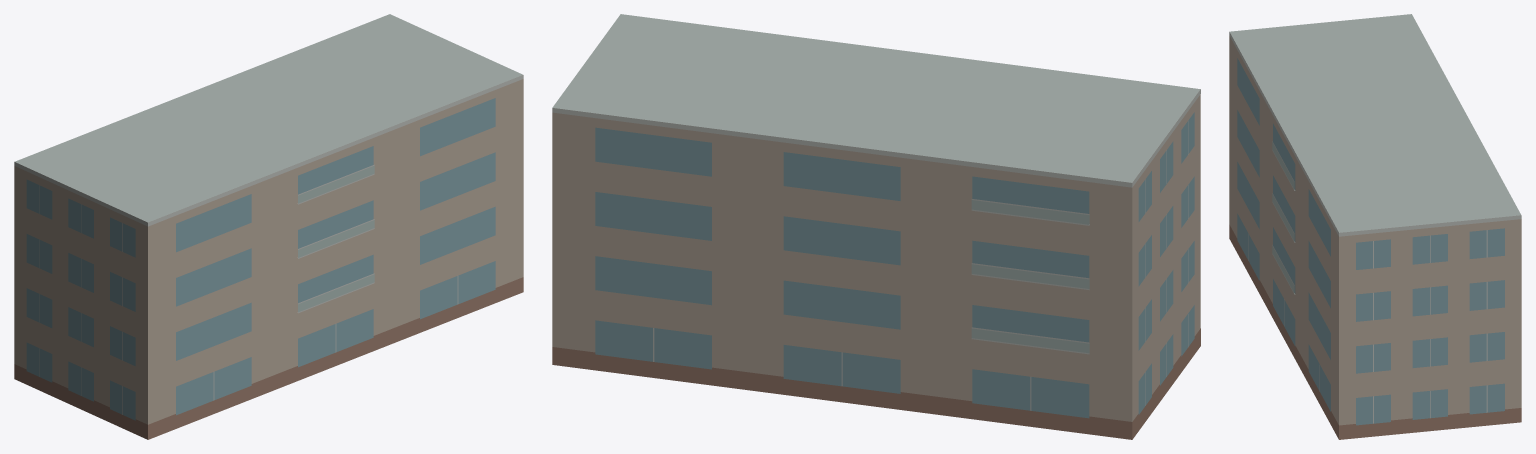
Rendered from survey-upis-32801147.glb.
3 renders of one model, left to right at view 1: azimuth 30°, elevation 25°; view 2: azimuth 150°, elevation 25°; view 3: azimuth 270°, elevation 25°, orthographic. The views are drawn at different scales.
Visible parts, largest first — view 1: survey-upis-32801147.tmp; view 2: survey-upis-32801147.tmp; view 3: survey-upis-32801147.tmp.
Boxes of the visible parts, box(x1,y1,x2,y2) form: survey-upis-32801147.tmp: box(14, 14, 523, 439); survey-upis-32801147.tmp: box(552, 14, 1200, 439); survey-upis-32801147.tmp: box(1229, 14, 1521, 439).
Size of the model in its own units: 29.94 by 13.2 by 16.89.
